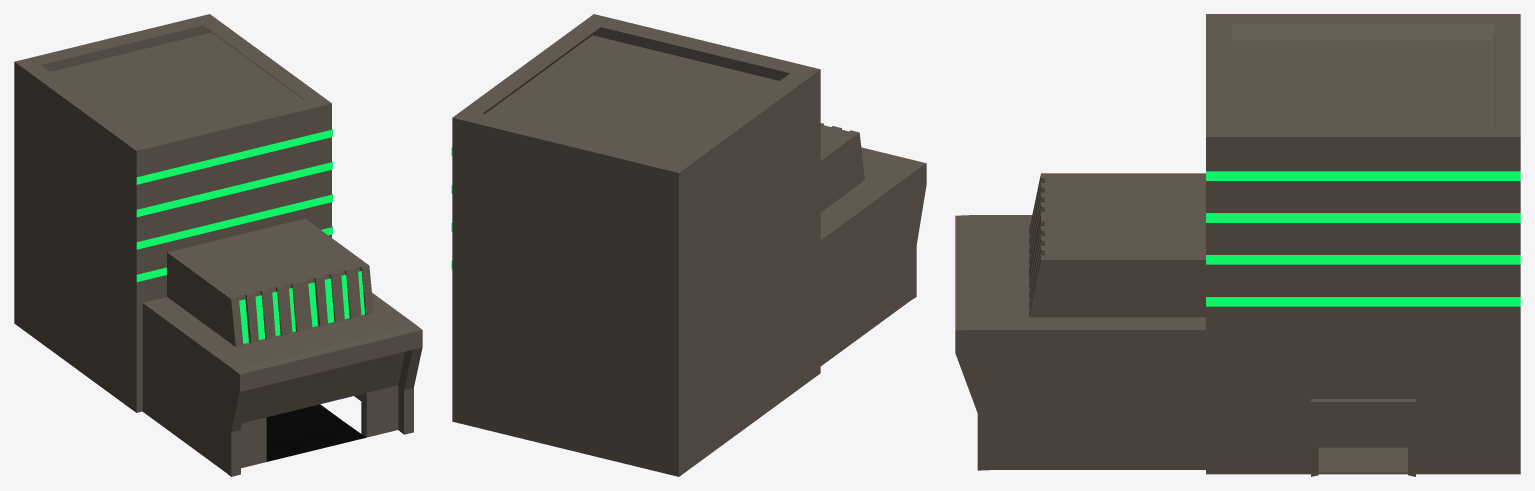
File: Outgoing_Hats.glb
3 renders of one model, left to right at view 1: azimuth 30°, elevation 25°; view 2: azimuth 150°, elevation 25°; view 3: azimuth 270°, elevation 25°, orthographic. The views are drawn at different scales.
Visible parts, largest first — view 1: Cube.002, Cube, Cube.018, Cube.001, Plane.004, Plane, Plane.005, Plane.001, Cube.003; view 2: Cube.002, Cube, Cube.018; view 3: Cube.002, Cube, Cube.001, Plane.003, Cube.018.
Boxes of the visible parts, x1,y1,x2,y2 form: Cube.002: (14, 14, 331, 412); Cube: (142, 293, 422, 476); Cube.018: (167, 235, 304, 346); Cube.001: (236, 218, 373, 329); Plane.004: (136, 129, 331, 281); Plane: (266, 404, 365, 461); Plane.005: (239, 288, 295, 343); Plane.001: (308, 271, 364, 326); Cube.003: (142, 367, 157, 422); Cube.002: (452, 14, 820, 476); Cube: (820, 147, 926, 363); Cube.018: (820, 123, 864, 212); Cube.002: (1206, 14, 1520, 476); Cube: (955, 215, 1205, 470); Cube.001: (1029, 216, 1205, 317); Plane.003: (1206, 171, 1520, 306); Cube.018: (1029, 173, 1205, 273).
Bounding box in the file's own units: 0.8368 × 1.05 × 1.59.
